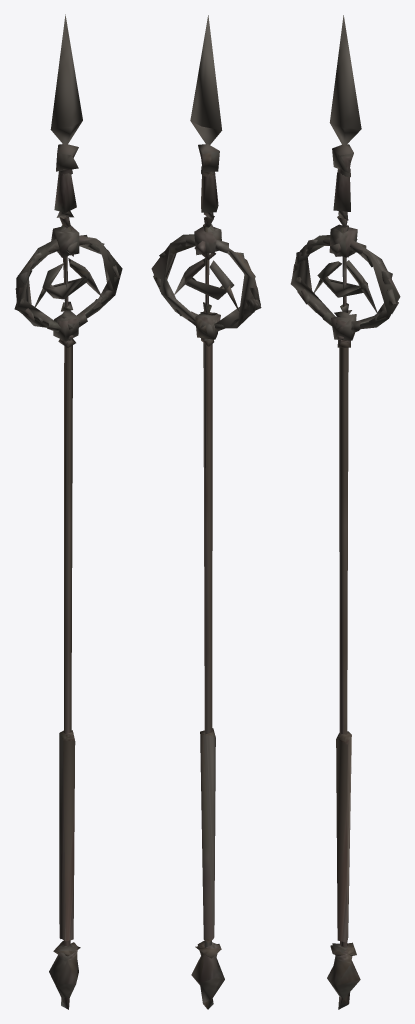
The model's file is gear_roman_signum_1.glb.
3 views of the same model, side by side, from view 1: azimuth 30°, elevation 25°; view 2: azimuth 150°, elevation 25°; view 3: azimuth 330°, elevation 25° (orthographic).
Parts seen in each view (by area): view 1: MeshyEquipment_gear_roman_signum; view 2: MeshyEquipment_gear_roman_signum; view 3: MeshyEquipment_gear_roman_signum.
Part boxes in pixels (x1,y1,x2,y2): MeshyEquipment_gear_roman_signum: [14, 14, 122, 1009]; MeshyEquipment_gear_roman_signum: [151, 15, 261, 1009]; MeshyEquipment_gear_roman_signum: [290, 15, 400, 1009].
Bounding box in the file's own units: 0.2423 × 2.11 × 0.0646.
Materials: 1 (1 with a texture image).
